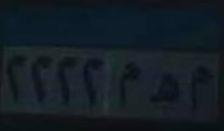2: (55, 54, 79, 107), (82, 55, 105, 110), (30, 54, 53, 104), (6, 51, 28, 101)
haa: (147, 72, 182, 111)
meem: (187, 62, 214, 114), (118, 62, 143, 112)
